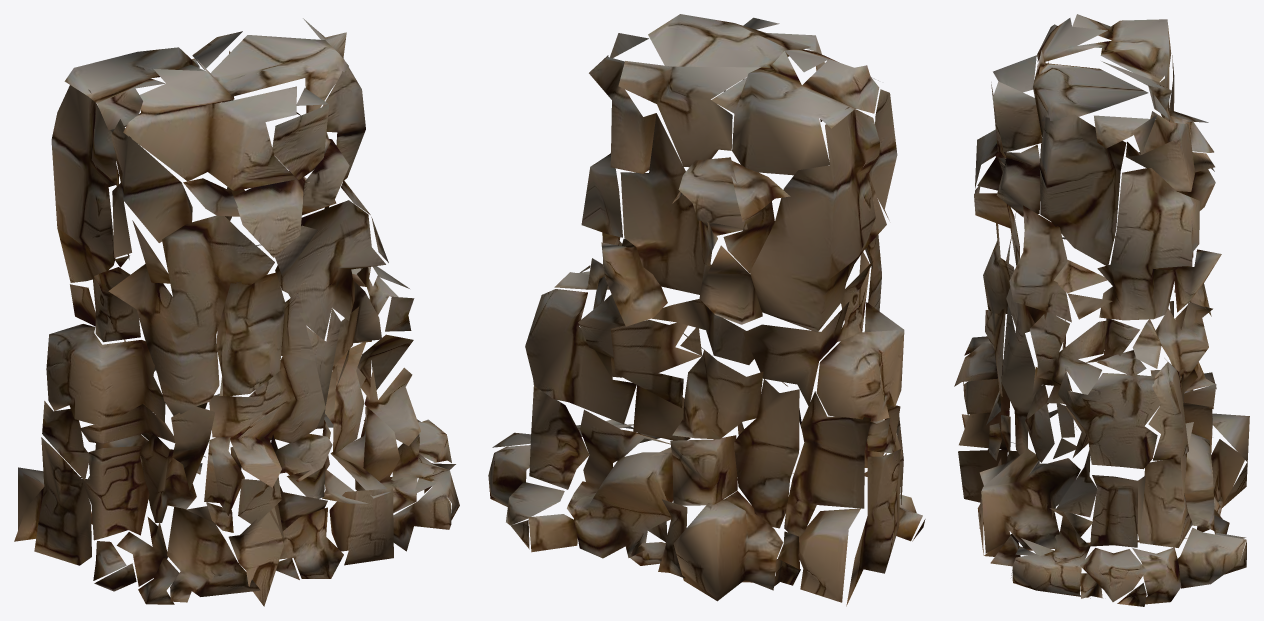
File: cav_limestone_cliff_a_LOD3.glb
3 renders of one model, left to right at view 1: azimuth 30°, elevation 25°; view 2: azimuth 150°, elevation 25°; view 3: azimuth 270°, elevation 25°, orthographic. The views are drawn at different scales.
Parts seen in each view (by area): view 1: tripo_node_3ef656aa-2fe7-4dd1-87fa-00c7bbc1e1c7; view 2: tripo_node_3ef656aa-2fe7-4dd1-87fa-00c7bbc1e1c7; view 3: tripo_node_3ef656aa-2fe7-4dd1-87fa-00c7bbc1e1c7.
Part boxes in pixels (x1,y1,x2,y2): tripo_node_3ef656aa-2fe7-4dd1-87fa-00c7bbc1e1c7: (14, 18, 459, 606); tripo_node_3ef656aa-2fe7-4dd1-87fa-00c7bbc1e1c7: (488, 14, 925, 606); tripo_node_3ef656aa-2fe7-4dd1-87fa-00c7bbc1e1c7: (954, 14, 1249, 606).
Bounding box in the file's own units: 0.8678 × 1.01 × 0.595.
1 material, 1 textured.
